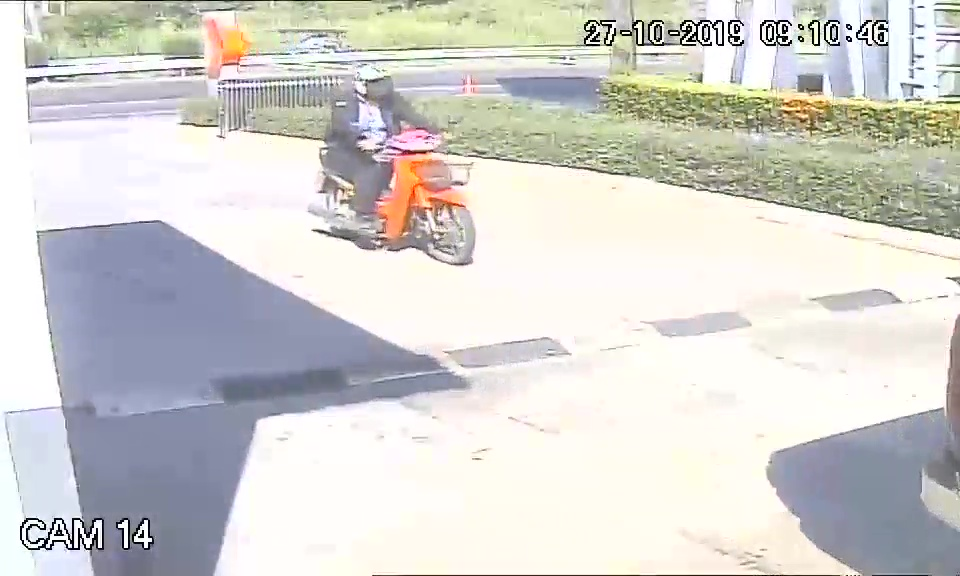motorcycle: (307, 132, 477, 269)
